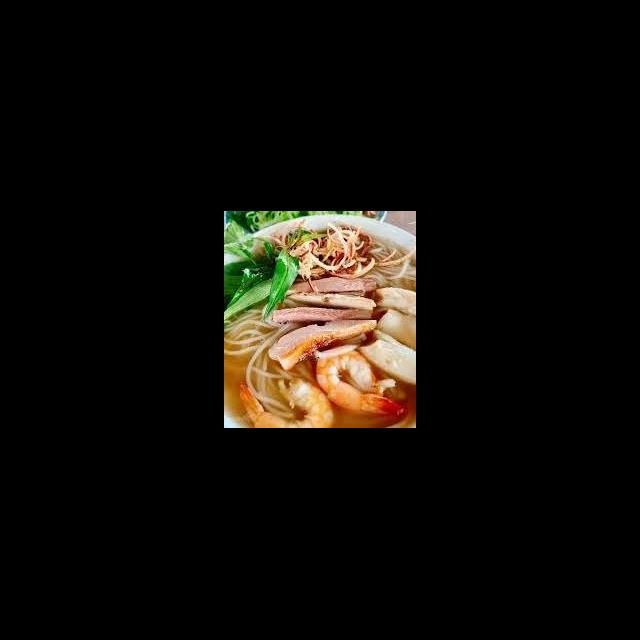bun: (225, 306, 319, 422), (363, 232, 416, 292)
ca: (354, 326, 416, 386), (371, 306, 416, 352), (371, 284, 416, 318)
rau ram: (225, 218, 331, 322)
thit heo quay: (267, 318, 379, 372), (284, 272, 378, 298), (286, 288, 379, 314), (271, 306, 375, 324)
tom: (312, 344, 408, 422), (236, 374, 337, 428)
